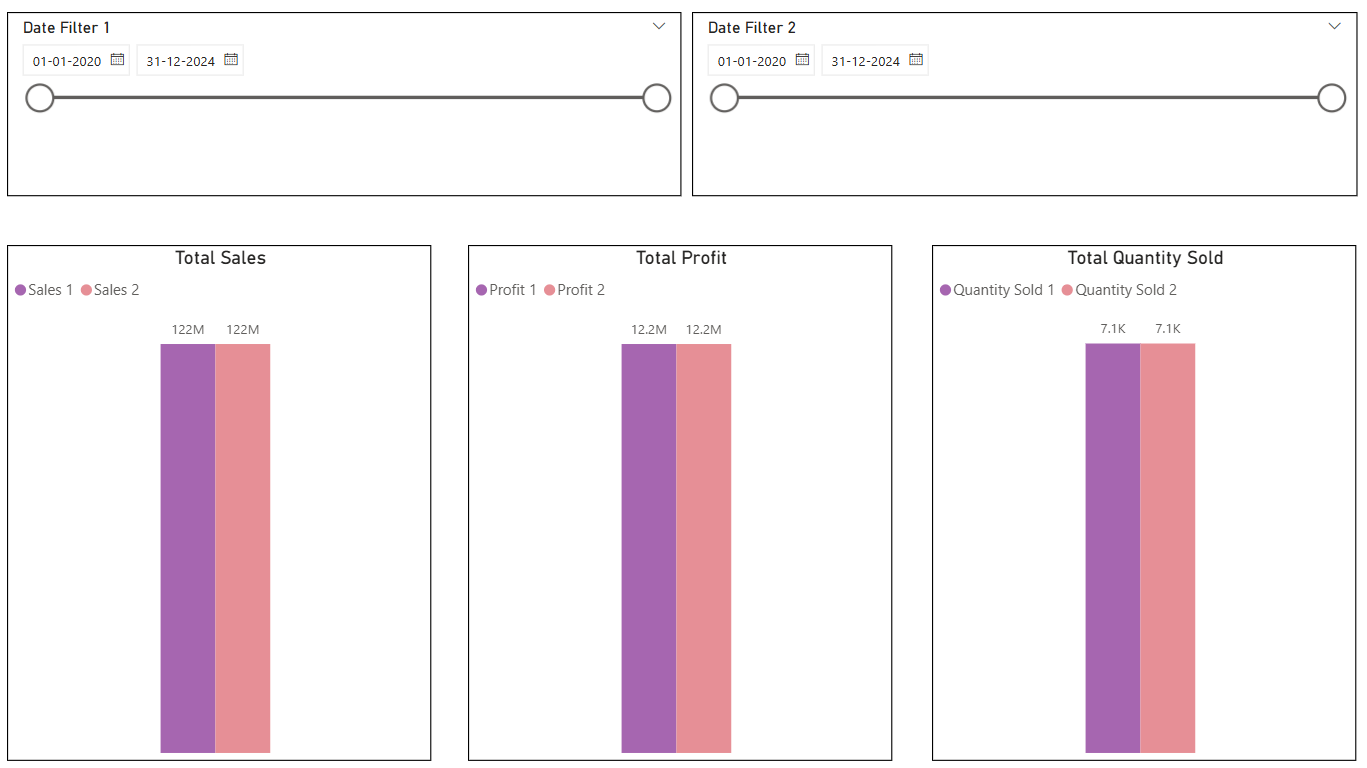

This screenshot's page, from the dashboard's own definition file:
{"tool":"powerbi","page":{"name":"Comparison Sales/Profit/Quantity","canvas":[1280,720],"ordinal":2},"visuals":[{"type":"slicer","fields":{"Values":["Date Table 1.Date"]},"box":[25.7,29.3,604.1,165.1],"z":0},{"type":"slicer","fields":{"Values":["Date Table 2.Date"]},"box":[639.5,29.3,595.5,165.1],"z":1000},{"type":"clusteredColumnChart","title":"Total Sales","fields":{"Y":["Sum(Fact Table.Net Sales  )","Date Table 1.Sum of Net Sales"]},"box":[25.7,238.5,380.3,462.2],"z":2000},{"type":"clusteredColumnChart","title":"Total Profit","fields":{"Y":["Sum(Fact Table.Profit)","Measures Table.Total Profit"]},"box":[439,238.5,380.3,462.2],"z":3000},{"type":"clusteredColumnChart","title":"Total Quantity Sold","fields":{"Y":["Sum(Fact Table.Units Sold)","Measures Table.Total Quantity Sold"]},"box":[854.8,238.5,380.3,462.2],"z":4000}]}

Visuals, with their boxes in screenshot pixels (x1, y1, x2, y2), scaled from the page's 1280x720 canvas onto the 1367x768 screenshot:
slicer - Date Table 1.Date: [x1=27, y1=31, x2=673, y2=207]
slicer - Date Table 2.Date: [x1=683, y1=31, x2=1319, y2=207]
"Total Sales" clusteredColumnChart: [x1=27, y1=254, x2=434, y2=747]
"Total Profit" clusteredColumnChart: [x1=469, y1=254, x2=875, y2=747]
"Total Quantity Sold" clusteredColumnChart: [x1=913, y1=254, x2=1319, y2=747]
